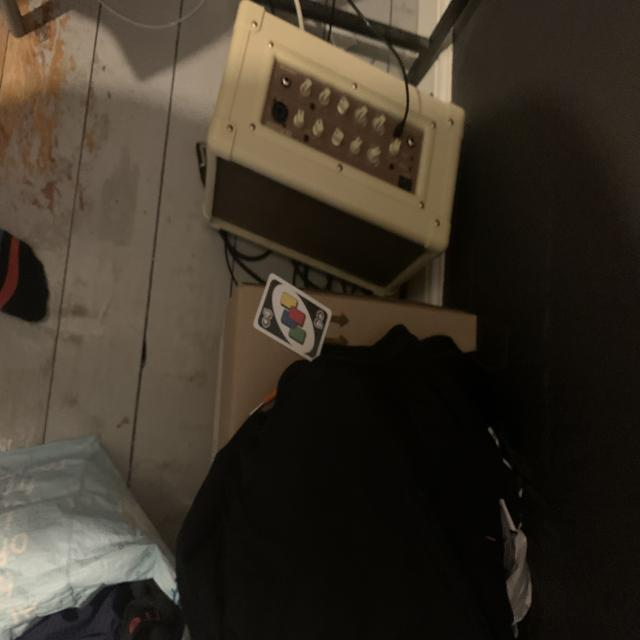lcolor-400: (260, 306, 275, 330)
